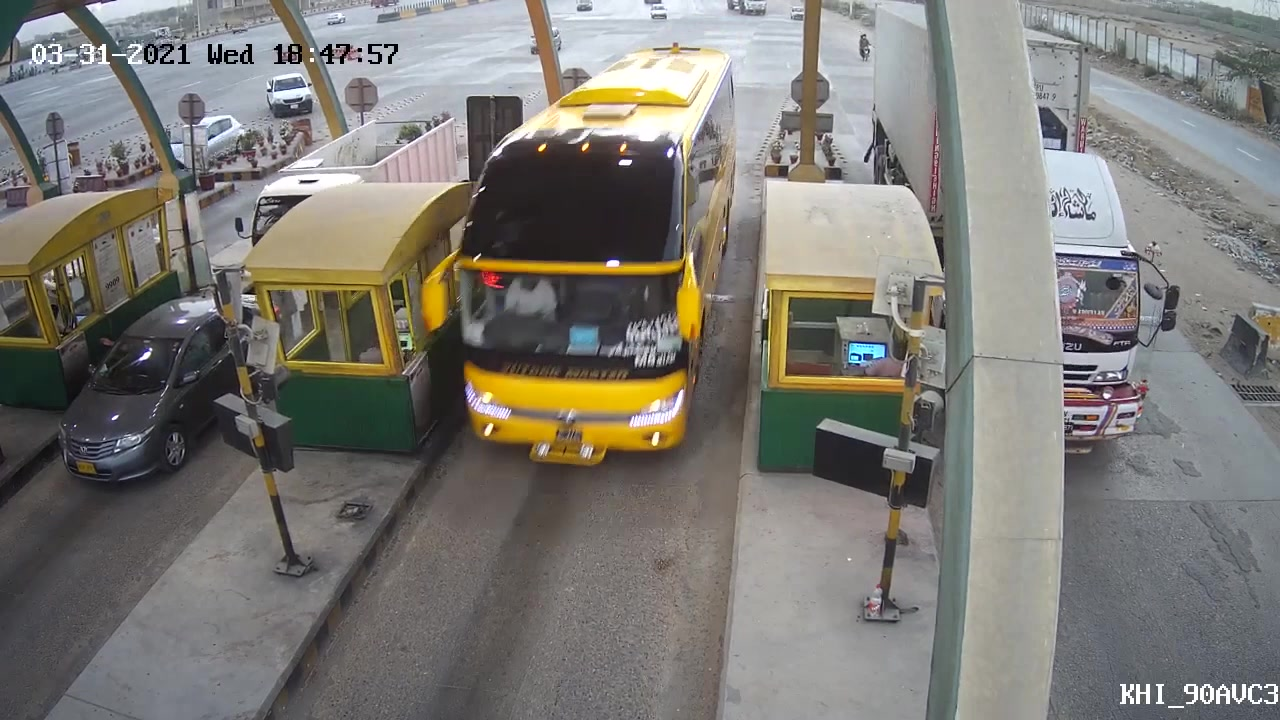F4: (410, 49, 745, 480)
